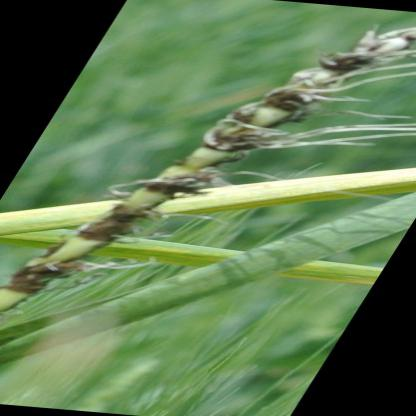Wheat Smut: (212, 127, 252, 147), (15, 265, 42, 291), (86, 223, 118, 240), (333, 56, 370, 69), (275, 93, 309, 106), (151, 180, 190, 191), (110, 210, 140, 219), (232, 112, 250, 125), (400, 34, 415, 44)
